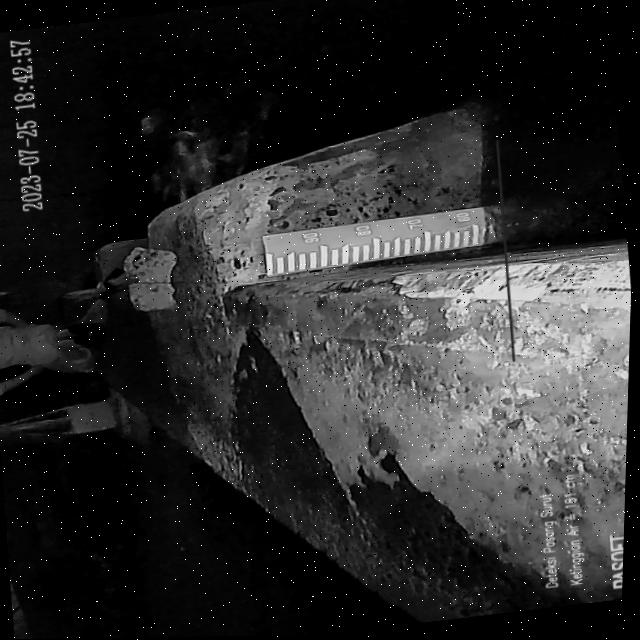water-meter: (249, 202, 509, 280)
